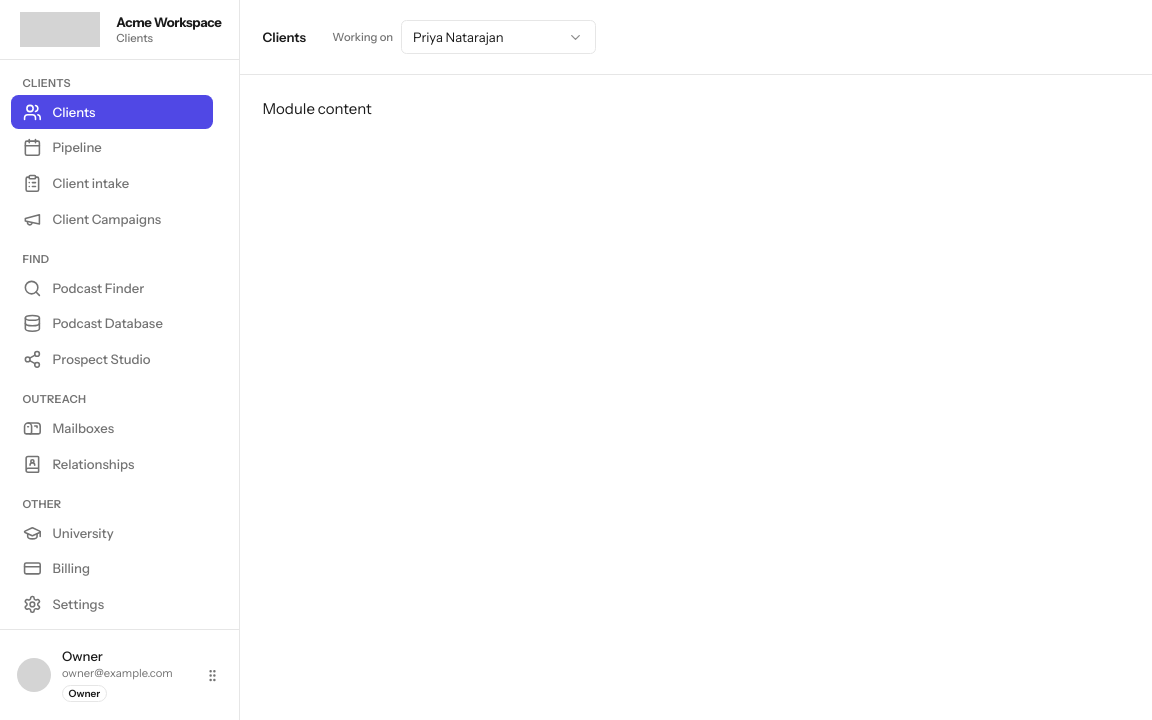
Test case: WorkspaceLayout › offers only active clients and remembers the choice for the tab
What coordinates should you click on to do the following:
click the dropdown named "Working client"
I would click on:
 (498, 37)
Its box is top-left (401, 20), bottom-right (596, 54).
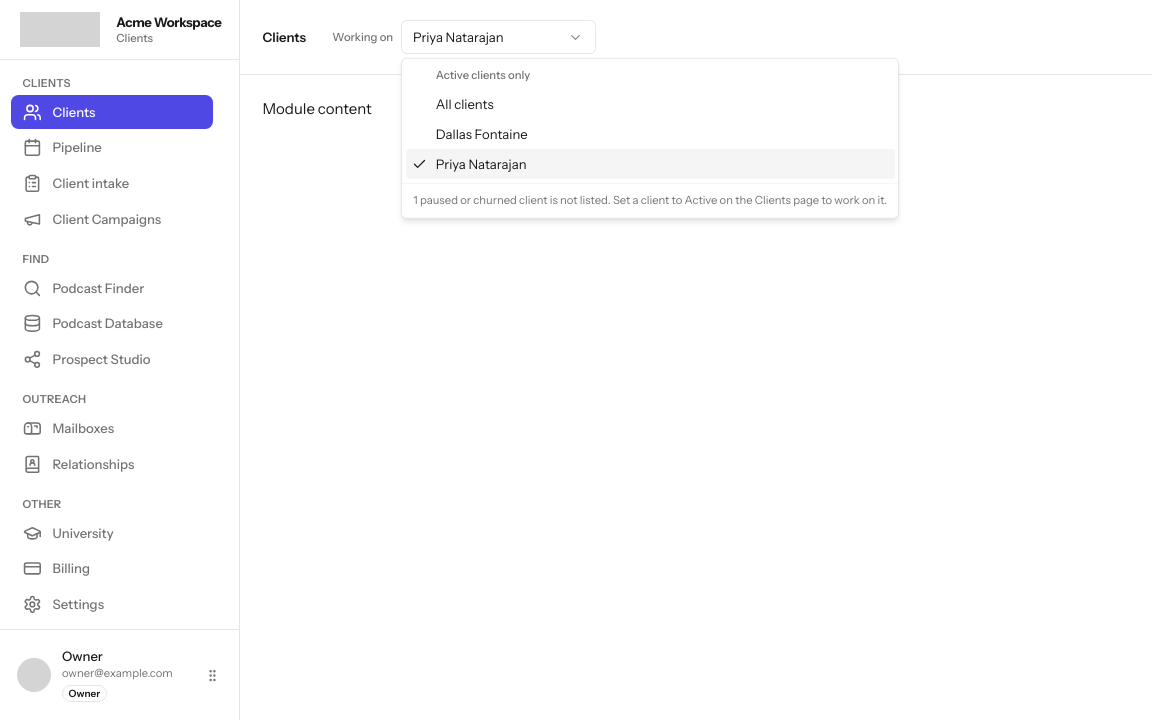
Expected: the option "Dallas Fontaine" is shown, top-left (436, 125), bottom-right (528, 141)
Expected: the text "Active clients only" is shown, top-left (436, 68), bottom-right (530, 82)
Expected: the text "1 paused or churned client is not listed." is shown, top-left (413, 193), bottom-right (611, 207)
